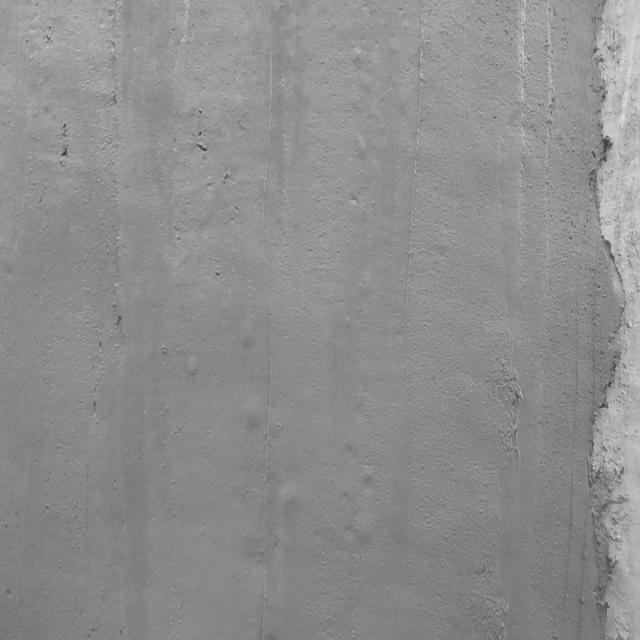trowels marks: (399, 6, 427, 342), (252, 312, 276, 640)
